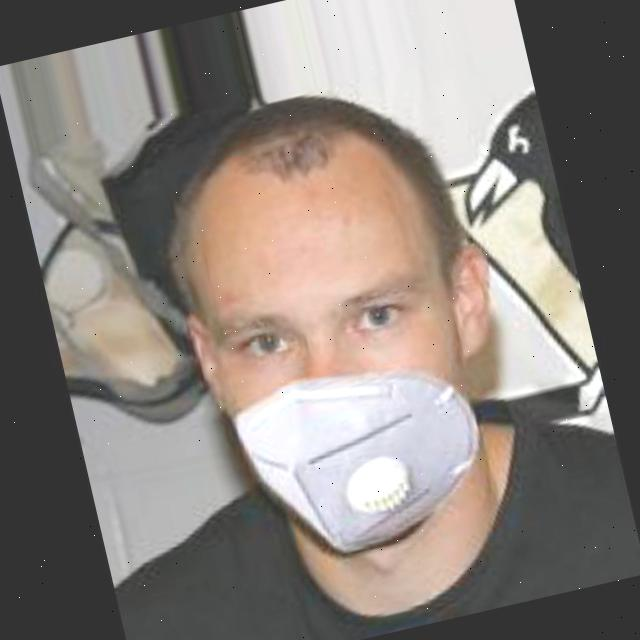suspicion: (156, 116, 554, 608)
